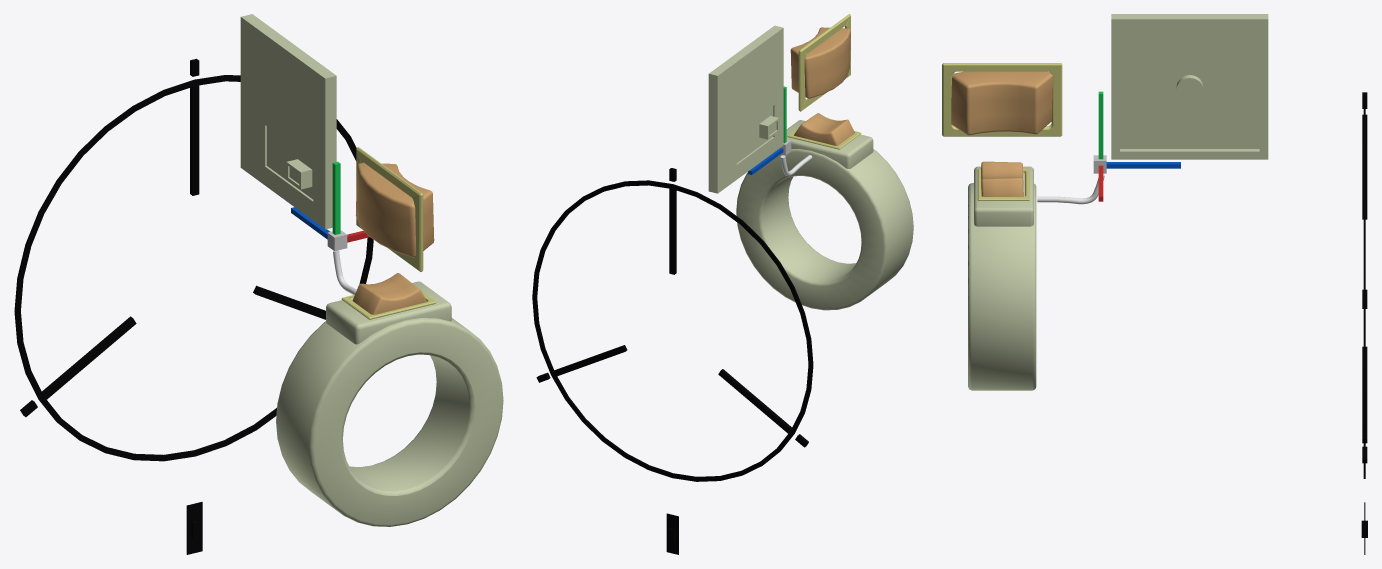
Rendered from obrczkav2.fbx.
3 views of the same model, side by side, from view 1: azimuth 30°, elevation 25°; view 2: azimuth 150°, elevation 25°; view 3: azimuth 270°, elevation 25° (orthographic). The views are drawn at different scales.
Parts seen in each view (by area): view 1: Tube, pad, radial_center, brn_2, Cube_6, brn, Connect_2, Cube_4, Cube_2, fourdir, Cube_3, compass; view 2: Tube, pad, radial_center, brn_2, Cube_6, brn, Connect_2, Cube_4, Cube_2, Cube_3; view 3: pad, Tube, brn_2, Connect_2, Cube_6, brn, radial_center, Cylinder, Cube_2, Cube_5.
Part boxes in pixels (x1,y1,x2,y2): Tube: (276, 318, 503, 526); pad: (240, 14, 336, 229); radial_center: (14, 75, 373, 461); brn_2: (355, 163, 434, 257); Cube_6: (326, 281, 451, 344); brn: (352, 273, 426, 314); Connect_2: (356, 147, 423, 271); Cube_4: (42, 316, 136, 400); Cube_2: (190, 84, 199, 195); fourdir: (186, 502, 202, 554); Cube_3: (253, 285, 325, 319); compass: (332, 161, 340, 234); Tube: (736, 149, 913, 310); pad: (708, 25, 783, 193); radial_center: (532, 180, 813, 481); brn_2: (790, 27, 850, 98); Cube_6: (786, 120, 873, 168); brn: (794, 113, 854, 145); Connect_2: (798, 14, 850, 111); Cube_4: (718, 369, 791, 434); Cube_2: (669, 187, 676, 274); Cube_3: (552, 345, 627, 377); pad: (1111, 14, 1268, 159); Tube: (968, 183, 1036, 390); brn_2: (951, 71, 1052, 135); Connect_2: (942, 63, 1062, 136); Cube_6: (974, 166, 1033, 226); brn: (981, 161, 1023, 196); radial_center: (1363, 109, 1365, 478); Cylinder: (1176, 75, 1203, 102); Cube_2: (1362, 114, 1367, 219); Cube_5: (1106, 162, 1180, 168).
Size of the model in its own units: 53.36 by 81.65 by 58.92.
